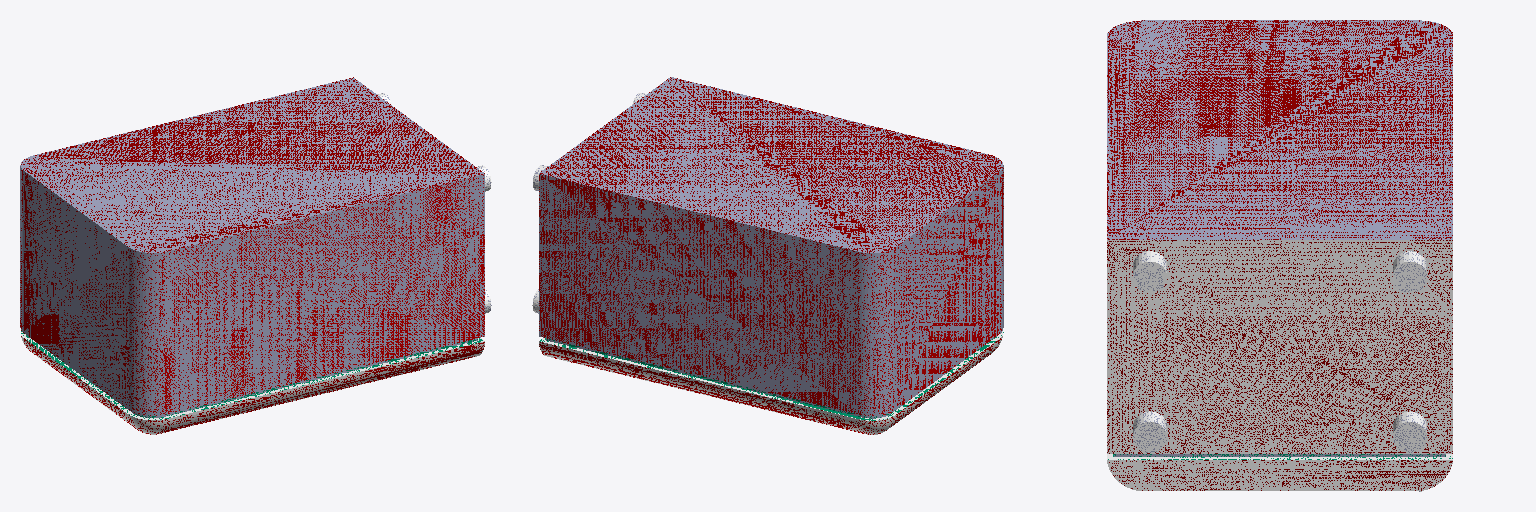
The robot description file, URDF, robot "fridge":
<?xml version="1.0" ?>
<robot name="fridge">
	<link name="base"/>
	<link name="link_0">
		<visual name="out-frame">
			<origin xyz="0 0 0"/>
			<geometry>
				<mesh filename="texture_dae/frame.dae" scale="0.7 0.7 0.7"/>
			</geometry>
		</visual>
		<collision>
			<origin xyz="0 0 0"/>
			<geometry>
				<mesh filename="texture_dae/frame.dae" scale="0.7 0.7 0.7"/>
			</geometry>
		</collision>
	</link>
	<joint name="joint_0" type="fixed">
		<origin rpy="1.570796326794897 0 -1.570796326794897" xyz="0 0 0"/>
		<child link="link_0"/>
		<parent link="base"/>
	</joint>
	<link name="link_1">
		<visual name="surf-board">
			<origin xyz="0.5950132334630519 -0.37105121993370244 0"/>
			<geometry>
				<mesh filename="texture_dae/board.dae" scale="0.7 0.7 0.7"/>
			</geometry>
		</visual>
		<collision>
			<origin xyz="0.5950132334630519 -0.37105121993370244 0"/>
			<geometry>
				<mesh filename="texture_dae/board.dae" scale="0.7 0.7 0.7"/>
			</geometry>
		</collision>
	</link>
	<joint name="joint_1" type="revolute">
		<origin xyz="-0.5950132334630519 0.37105121993370244 0"/>
		<axis xyz="0 -1 0"/>
		<child link="link_1"/>
		<parent link="link_0"/>
		<limit lower="0" upper="1.5079644737231006"/>
	</joint>
	<link name="link_2">
		<visual name="handle">
			<origin xyz="0 0 0"/>
			<geometry>
				<mesh filename="texture_dae/9960013.dae" scale="1 1 1"/>
			</geometry>
		</visual>
		<collision>
			<origin xyz="0 0 0"/>
			<geometry>
				<mesh filename="texture_dae/9960013.dae" scale="1 1 1"/>
			</geometry>
		</collision>
	</link>
	<joint name="joint_2" type="revolute">
		<origin xyz="0.5950132334630519 -0.37105121993370244 0.041878916448044735"/>
		<child link="link_2"/>
		<parent link="link_1"/>
		<axis xyz="0 0 1"/>
		<limit lower="0" upper="1.5079644737231006"/>
	</joint>
</robot>

--- What the picture shows (computed from the rendered views, not written in the file) ---
Views: 3 orthographic renders of the robot side by side, from view 1: azimuth 30°, elevation 25°; view 2: azimuth 150°, elevation 25°; view 3: azimuth 270°, elevation 25°.
Robot: fridge — 4 links, 3 joints (2 revolute, 1 fixed); root link base; default pose: all joints at 0.
Visible links, largest first — view 1: link_0, link_1; view 2: link_0, link_1; view 3: link_0, link_1.
Boxes of the visible links, bbox=[...] form: link_0: bbox=[20, 77, 491, 415]; link_1: bbox=[21, 331, 484, 434]; link_0: bbox=[532, 77, 1003, 415]; link_1: bbox=[539, 331, 1003, 434]; link_0: bbox=[1107, 20, 1452, 491]; link_1: bbox=[1107, 454, 1452, 490].
Bounding box of the posed robot: 1.1 × 0.7 × 0.56 m (x, y, z).
Meshes: 3 distinct files referenced, 2 mesh visuals loaded (2 Collada DAE); not drawn: 1 (file found but could not be loaded).